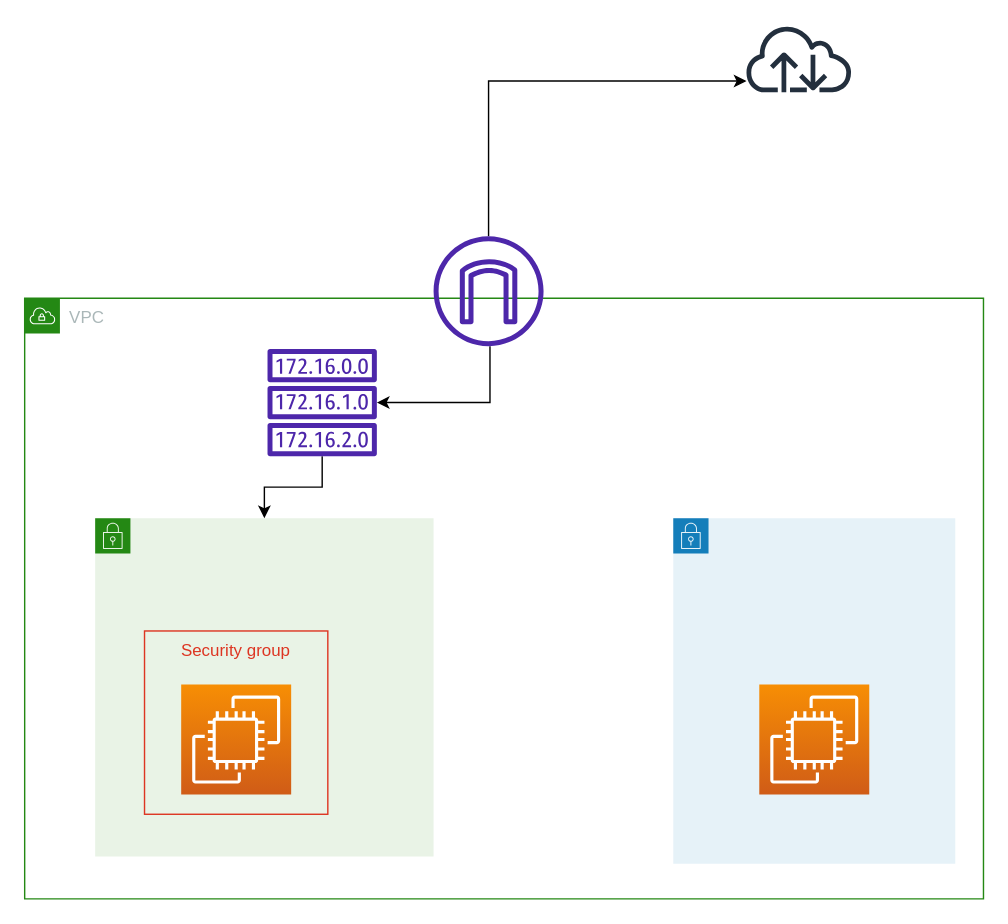
The diagram is 1008 pixels wide and 924 high, and some of its shapes have lost their labels. Each missing label, with the box of its shape:
Private subnet: (672, 517, 955, 864)
Public subnet: (94, 517, 434, 857)
